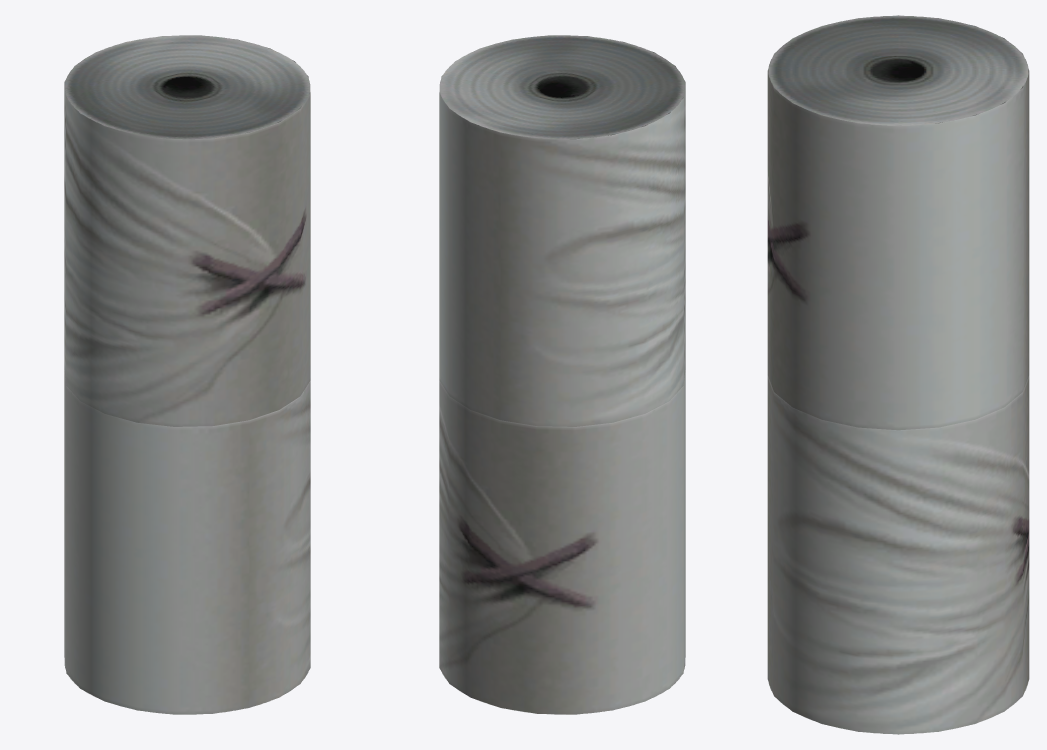
File: paper_stacked02.fbx
3 renders of one model, left to right at view 1: azimuth 30°, elevation 25°; view 2: azimuth 150°, elevation 25°; view 3: azimuth 270°, elevation 25°, orthographic. The views are drawn at different scales.
Parts seen in each view (by area): view 1: mesh_1, mesh_0; view 2: mesh_1, mesh_0; view 3: mesh_1, mesh_0.
Part boxes in pixels (box(x1,y1,x2,y2)): mesh_1: box(64, 35, 310, 714); mesh_0: box(64, 35, 310, 714); mesh_1: box(439, 35, 685, 714); mesh_0: box(439, 35, 685, 714); mesh_1: box(767, 15, 1029, 734); mesh_0: box(768, 15, 1028, 733).
Bounding box in the file's own units: 200 × 500 × 200.
2 materials, 2 textured.
